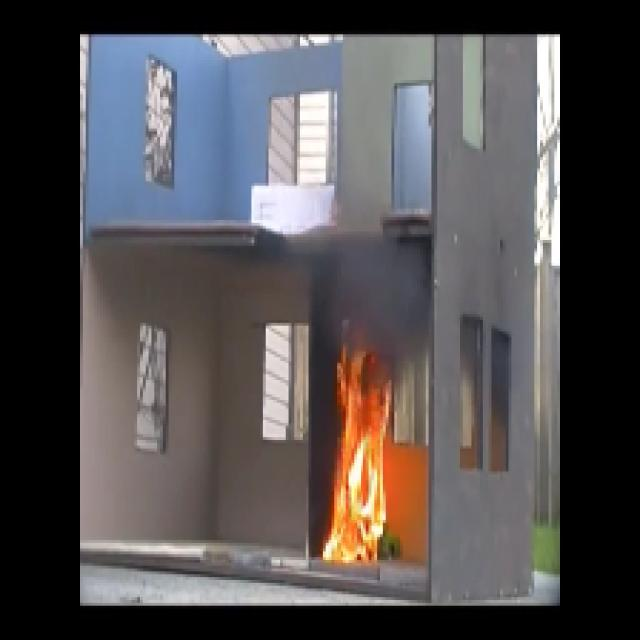fire: (336, 364, 390, 563), (320, 244, 425, 330)
